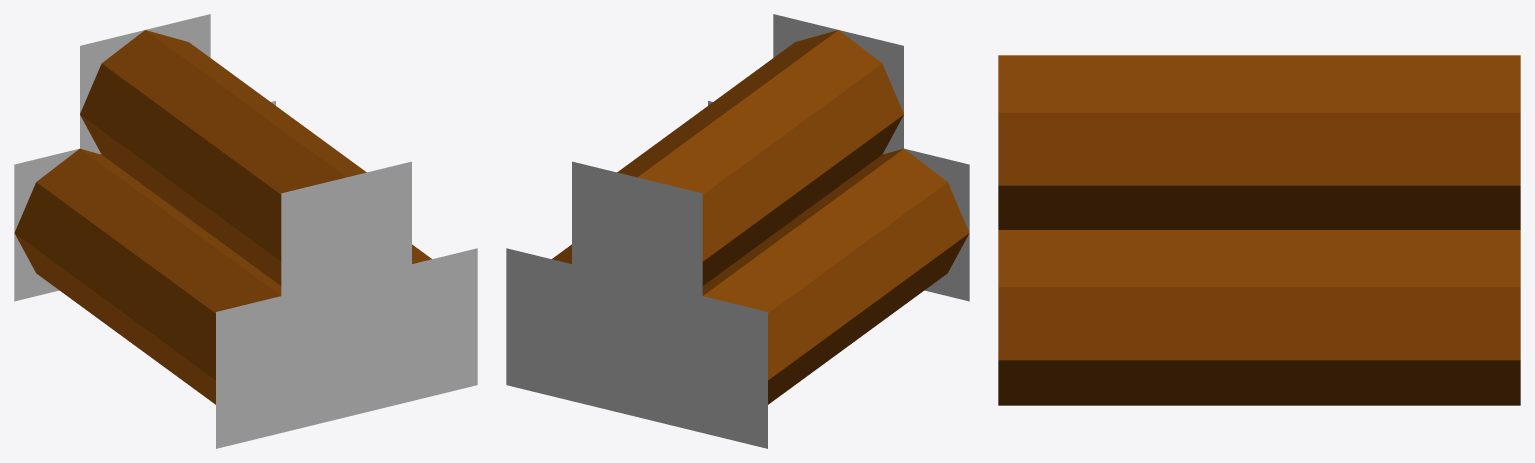
The model's file is logpile.obj.
3 views of the same model, side by side, from view 1: azimuth 30°, elevation 25°; view 2: azimuth 150°, elevation 25°; view 3: azimuth 270°, elevation 25° (orthographic). The views are drawn at different scales.
Visible parts, largest first — view 1: logpile_back; view 2: logpile_back; view 3: logpile_back.
Boxes of the visible parts, x1=… form: logpile_back: x1=14, y1=14, x2=477, y2=448; logpile_back: x1=506, y1=14, x2=969, y2=448; logpile_back: x1=998, y1=55, x2=1520, y2=405.
Bounding box in the file's own units: 0.96 × 0.84 × 1.28.
